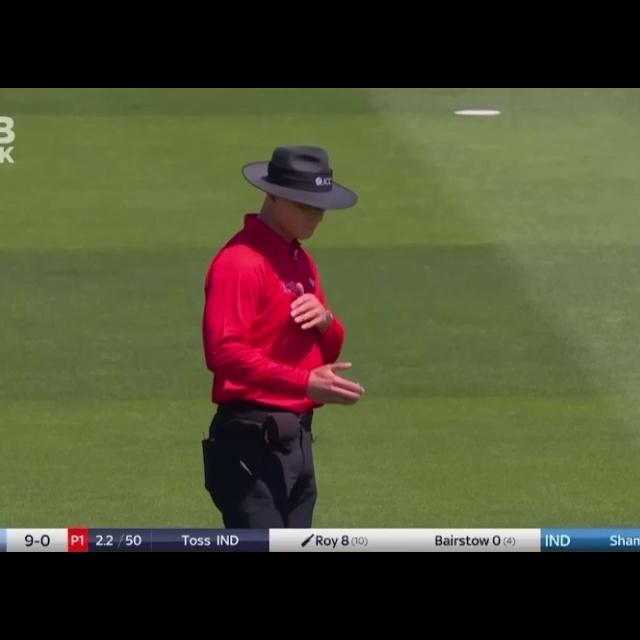umpire: (174, 115, 385, 539)
